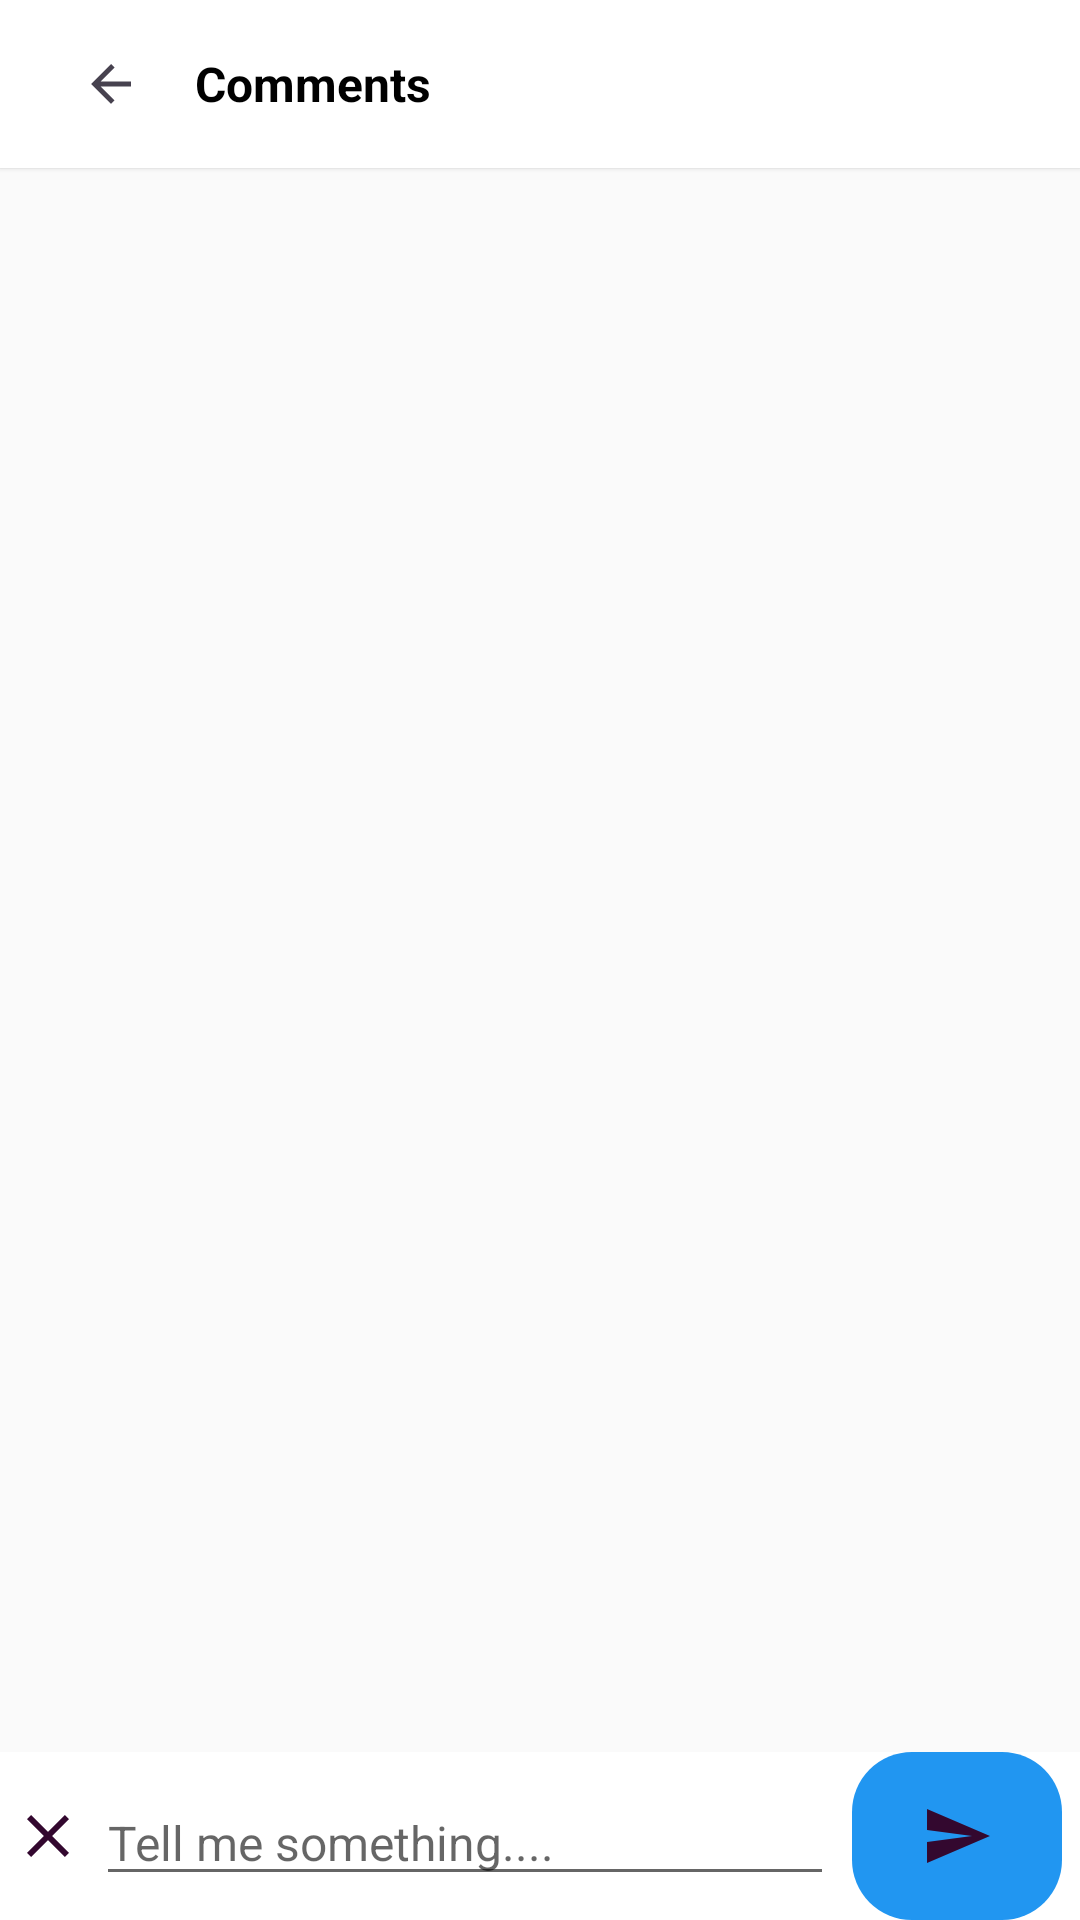

Screen size 1080*1920. Icon name, then its box in pixels as (x1, y1, x2, y2):
close: (27, 1815, 69, 1857)
send: (852, 1752, 1062, 1920)
